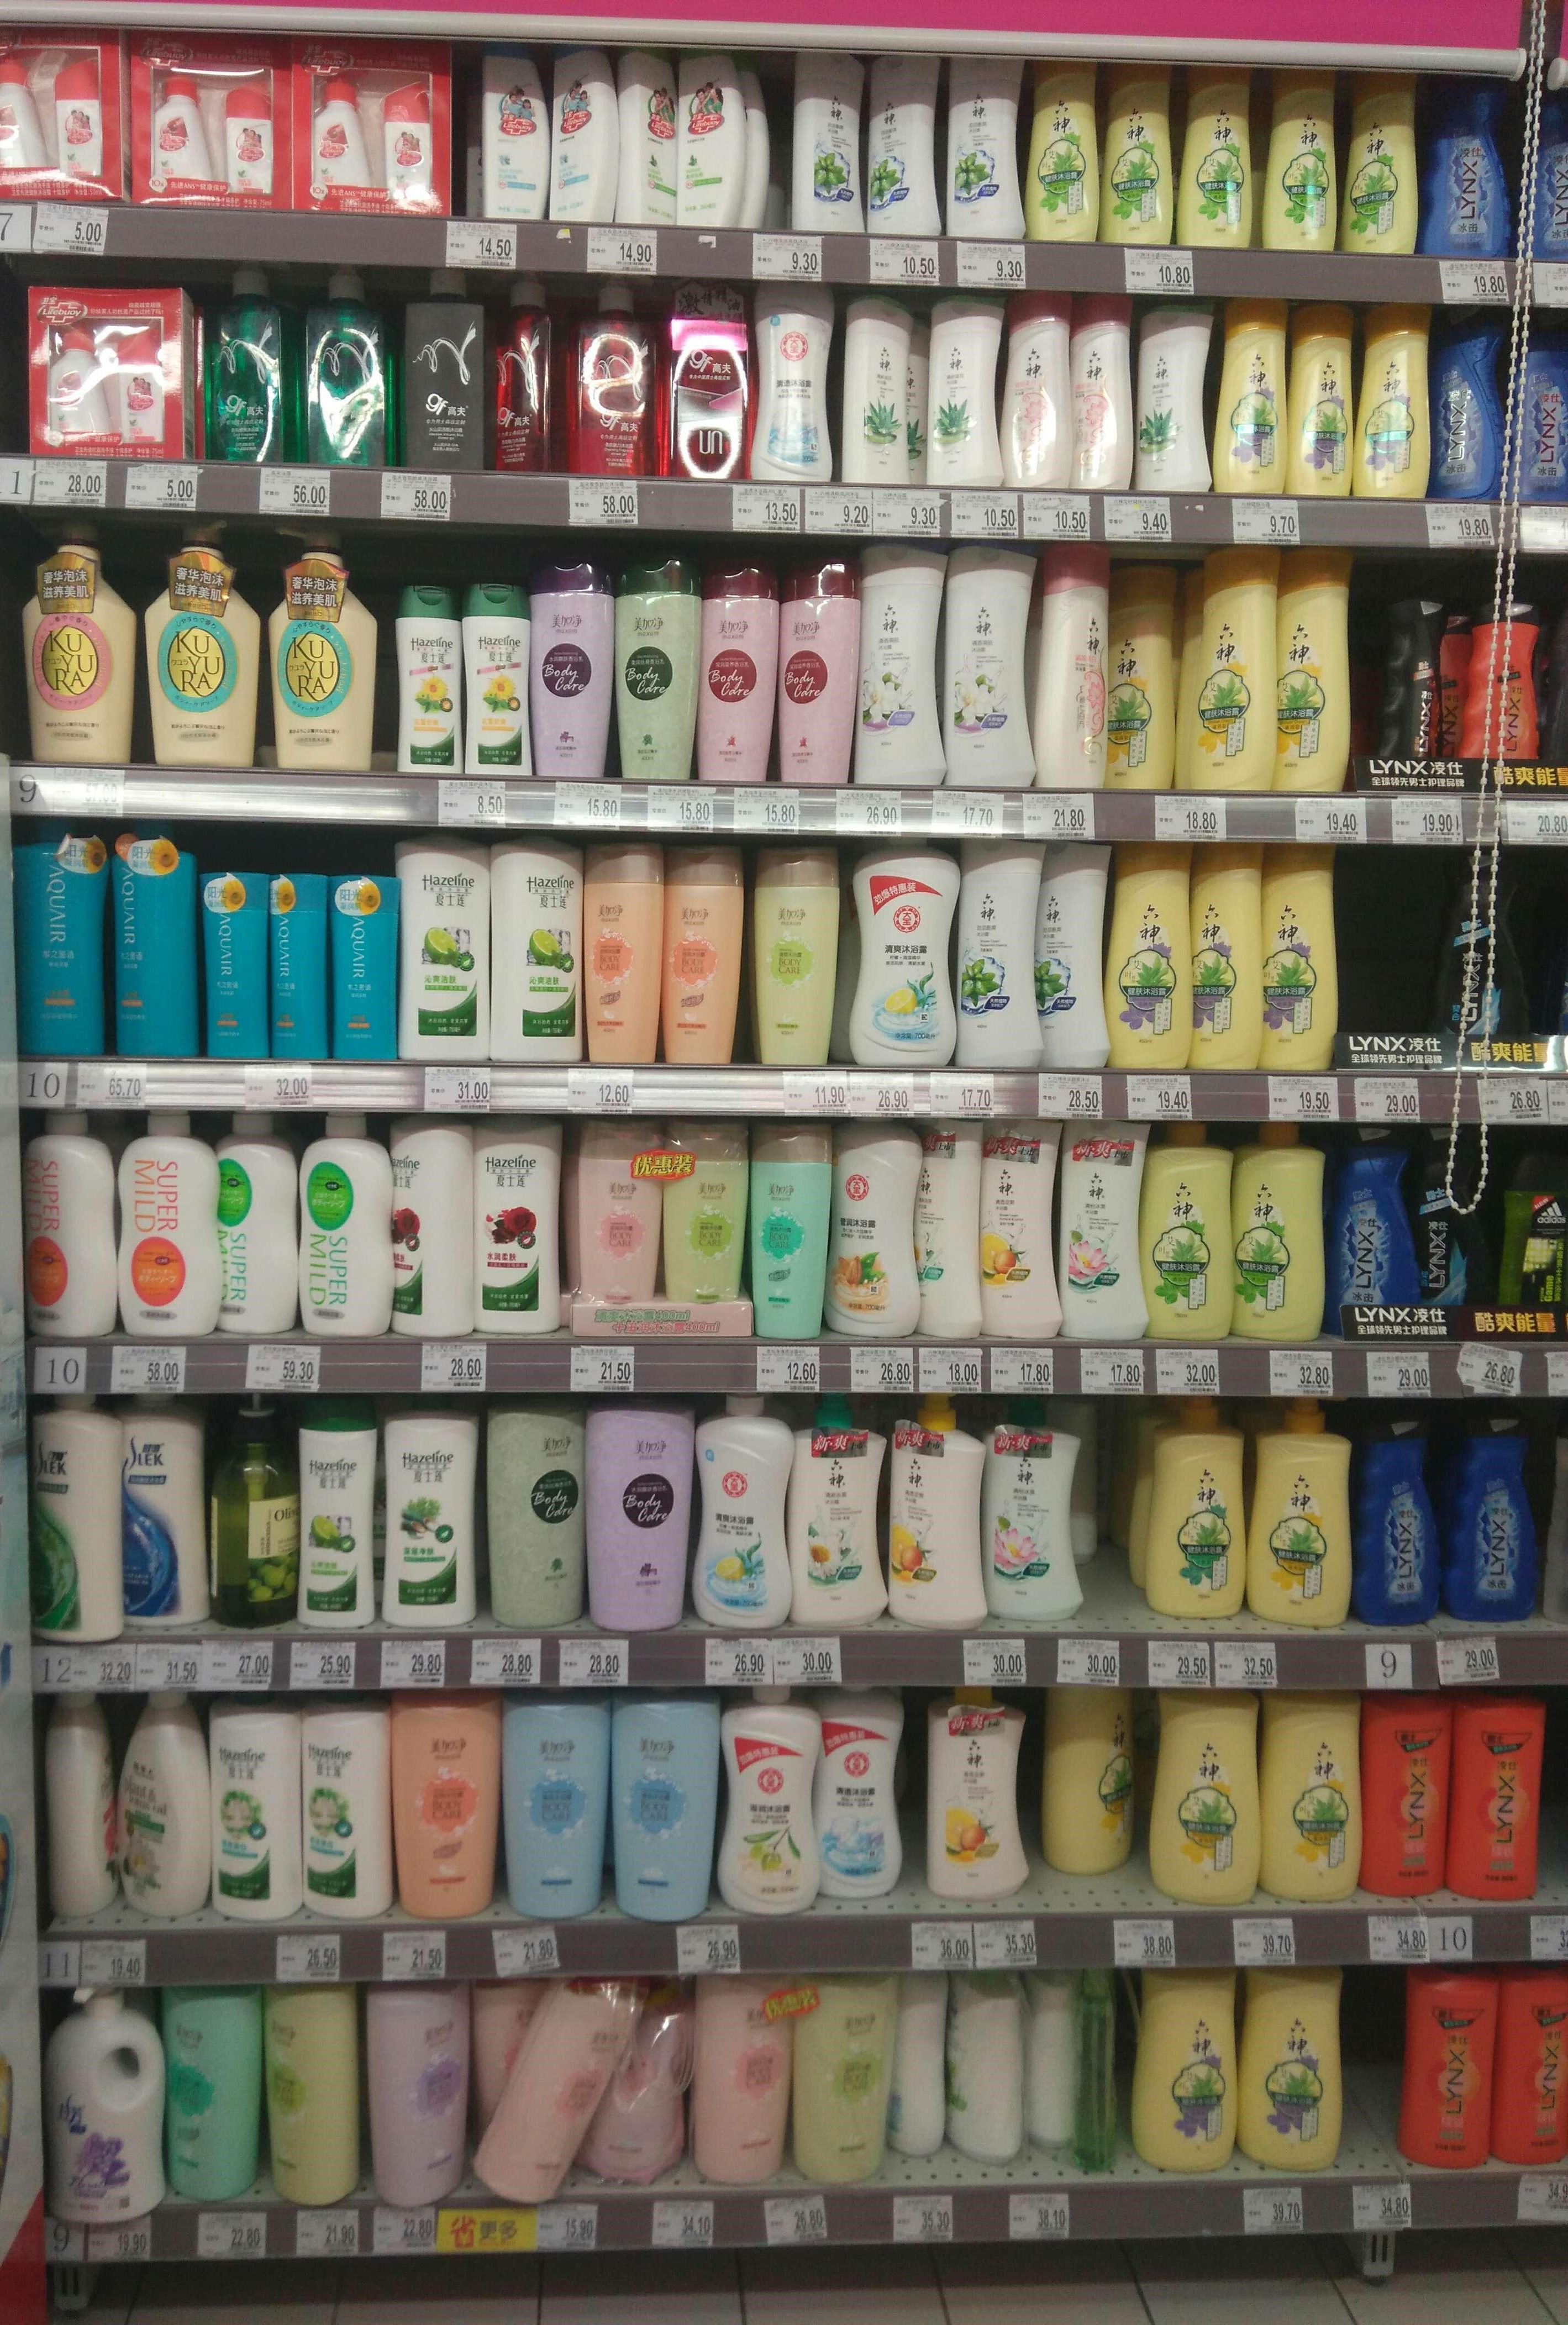empty: (1349, 852, 1445, 1043)
misalignment: (464, 1987, 649, 2190)
